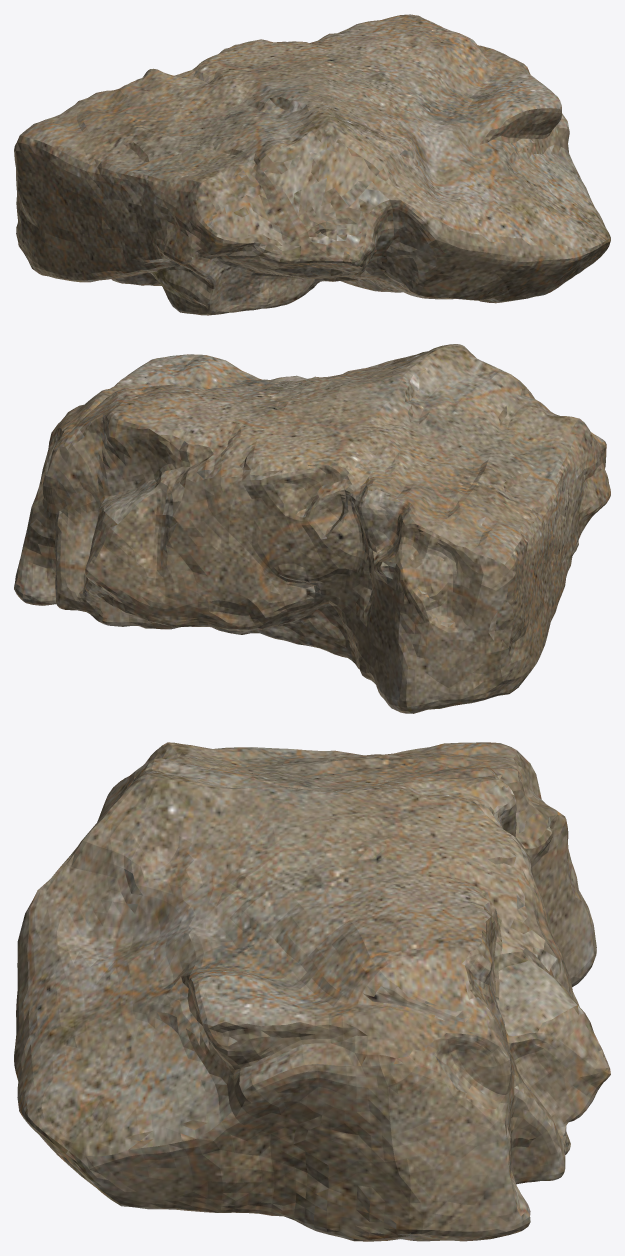
The model's file is rock9.dae.
3 views of the same model, one above another, from view 1: azimuth 30°, elevation 25°; view 2: azimuth 150°, elevation 25°; view 3: azimuth 270°, elevation 25° (orthographic). The views are drawn at different scales.
Visible parts, largest first — view 1: Rock_9; view 2: Rock_9; view 3: Rock_9.
Part boxes in pixels (left/top/right/bottom): Rock_9: left=14, top=14, right=610, bottom=315; Rock_9: left=14, top=344, right=610, bottom=713; Rock_9: left=14, top=742, right=610, bottom=1241.
Size of the model in its own units: 10.67 by 8.45 by 4.53.
1 material, 1 textured.
